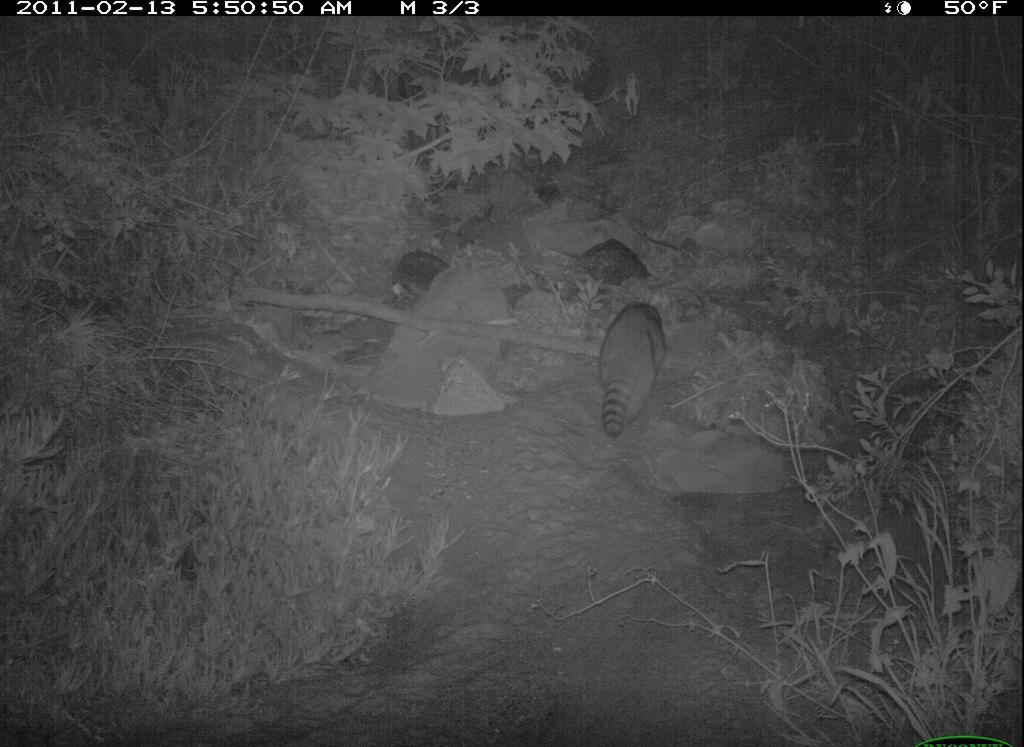raccoon: (591, 295, 674, 443)
